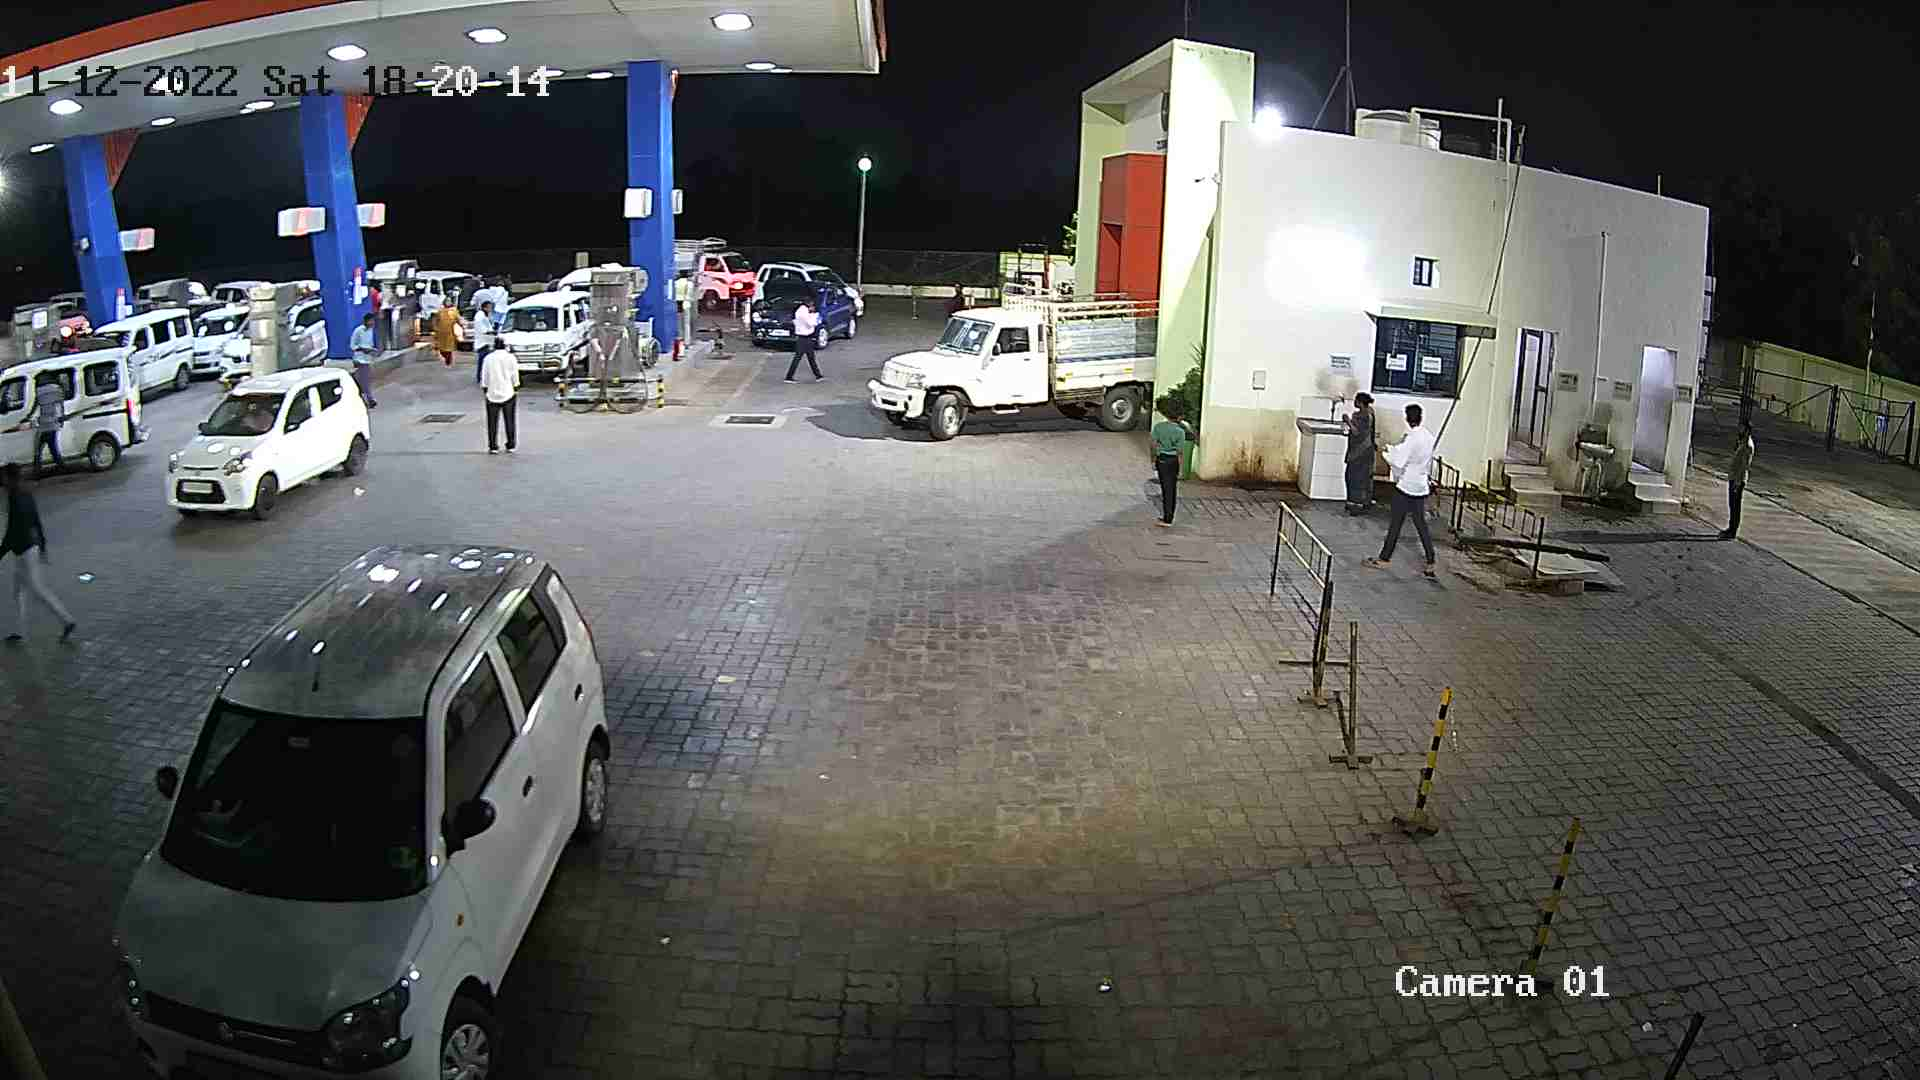Car: (102, 530, 626, 1077), (861, 285, 1158, 446), (157, 356, 373, 526), (0, 328, 149, 481), (65, 302, 198, 393), (485, 285, 596, 386), (738, 266, 858, 351), (658, 225, 758, 314), (741, 253, 866, 323), (440, 269, 525, 349), (185, 299, 256, 382), (411, 266, 477, 339), (289, 284, 340, 371), (182, 272, 255, 320), (550, 257, 599, 301)
